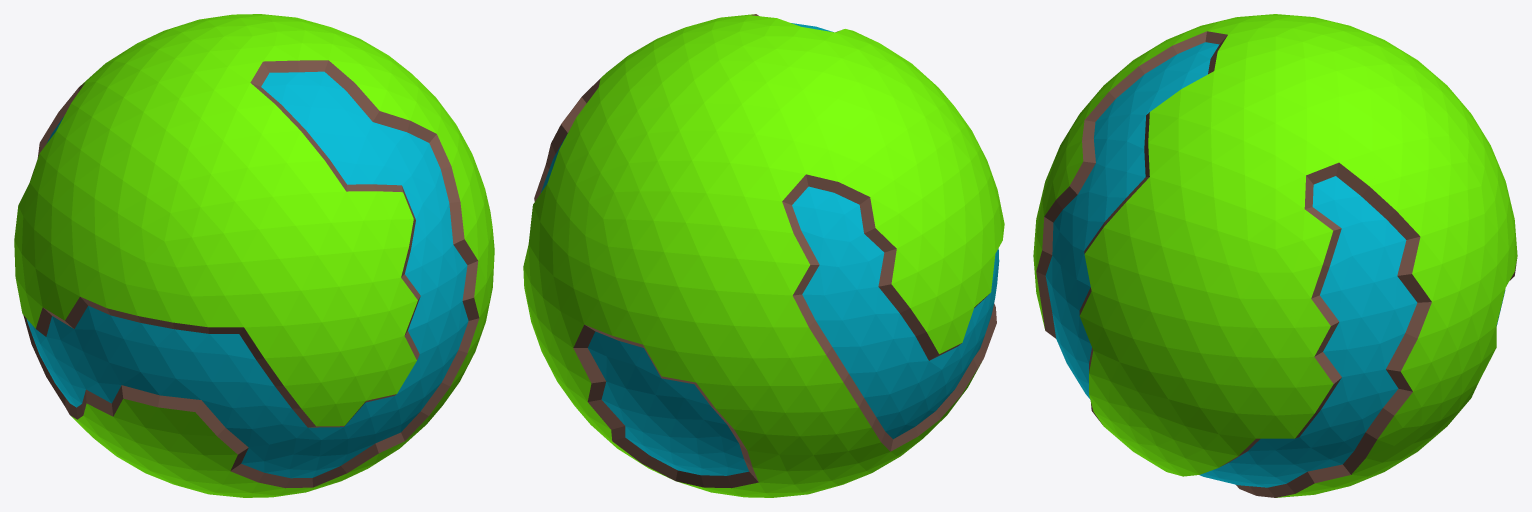
File: Low poly Earth.fbx
3 views of the same model, side by side, from view 1: azimuth 30°, elevation 25°; view 2: azimuth 150°, elevation 25°; view 3: azimuth 270°, elevation 25° (orthographic).
Parts seen in each view (by area): view 1: Icosphere.004; view 2: Icosphere.004; view 3: Icosphere.004.
Boxes of the visible parts, bbox=[...] form: Icosphere.004: bbox=[14, 14, 494, 497]; Icosphere.004: bbox=[523, 14, 1004, 497]; Icosphere.004: bbox=[1033, 14, 1517, 497].
Bounding box in the file's own units: 200 × 200 × 200.
